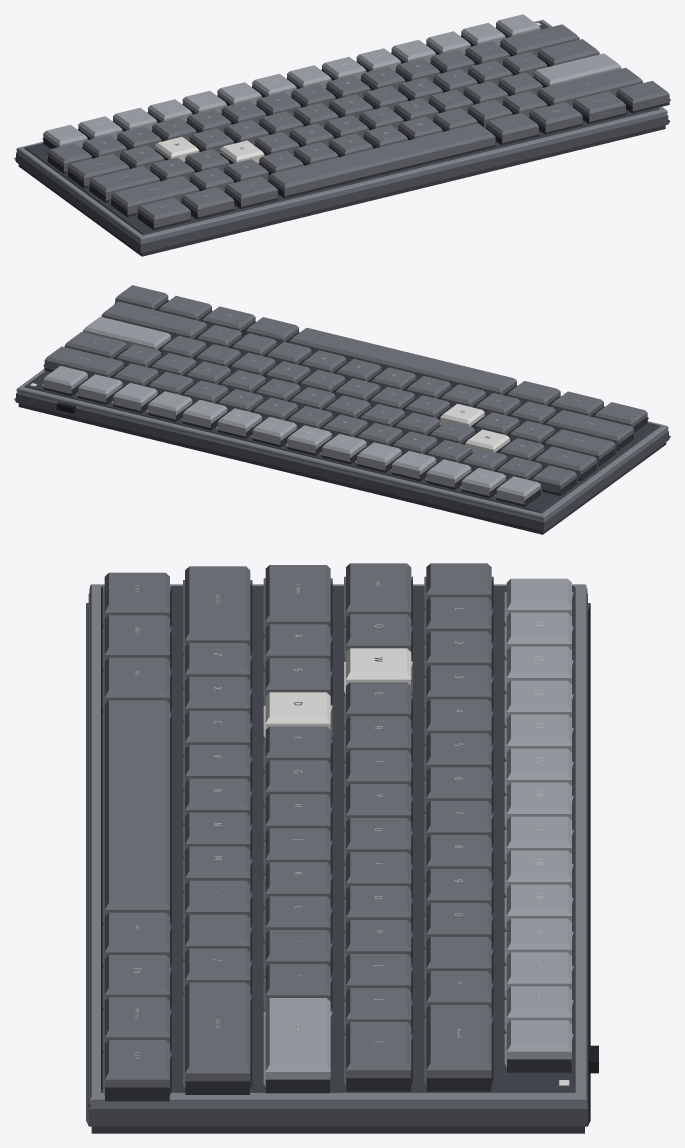
The model's file is typewud-keyboard.glb.
3 views of the same model, one above another, from view 1: azimuth 30°, elevation 25°; view 2: azimuth 150°, elevation 25°; view 3: azimuth 270°, elevation 25° (orthographic). The views are drawn at different scales.
Visible parts, largest first — view 1: Precision aluminium body, Key 5--70, Outer chamfer, Recessed switch plate, Lower chassis, Key 4-Shift-66, Key 4-Shift-55, Key 3-Enter-54, Key 1-Back-27, Key 3-Caps-42, Key 5-Fn-72, Key 5-Win-68 (+69 smaller); view 2: Precision aluminium body, Outer chamfer, Key 5--70, Recessed switch plate, Lower chassis, Key 4-Shift-66, Key 4-Shift-55, Key 3-Enter-54, Key 1-Back-27, Key 3-Caps-42, Key 2-Tab-28, Key 2-\-41 (+68 smaller); view 3: Recessed switch plate, Outer chamfer, Precision aluminium body, Key 5--70, Key 4-Shift-66, Key 3-Enter-54, Key 4-Shift-55, Key 1-Back-27, Key 3-Caps-42, Lower chassis, Key 2-\-41, Key 2-Tab-28 (+74 smaller).
Part boxes in pixels (x1,y1,x2,y2): Precision aluminium body: [14, 114, 669, 253]; Key 5--70: [268, 123, 496, 195]; Outer chamfer: [16, 19, 667, 241]; Recessed switch plate: [24, 21, 659, 235]; Lower chassis: [18, 125, 665, 256]; Key 4-Shift-66: [537, 67, 642, 106]; Key 4-Shift-55: [110, 176, 199, 214]; Key 3-Enter-54: [533, 53, 621, 86]; Key 1-Back-27: [500, 24, 579, 56]; Key 3-Caps-42: [88, 166, 159, 200]; Key 5-Fn-72: [529, 102, 583, 132]; Key 5-Win-68: [181, 187, 235, 217]; Precision aluminium body: [14, 392, 670, 531]; Outer chamfer: [16, 369, 668, 519]; Key 5--70: [289, 327, 517, 397]; Recessed switch plate: [24, 335, 660, 513]; Lower chassis: [18, 403, 666, 534]; Key 4-Shift-66: [101, 301, 206, 340]; Key 4-Shift-55: [546, 410, 635, 448]; Key 3-Enter-54: [83, 316, 171, 349]; Key 1-Back-27: [43, 346, 123, 378]; Key 3-Caps-42: [545, 429, 616, 463]; Key 2-Tab-28: [535, 446, 597, 478]; Key 2-\-41: [64, 331, 126, 358]; Recessed switch plate: [101, 586, 575, 1092]; Outer chamfer: [89, 584, 587, 1104]; Precision aluminium body: [86, 593, 590, 1126]; Key 5--70: [102, 700, 171, 924]; Key 4-Shift-66: [183, 982, 252, 1089]; Key 3-Enter-54: [263, 998, 332, 1087]; Key 4-Shift-55: [183, 566, 252, 655]; Key 1-Back-27: [424, 1005, 493, 1085]; Key 3-Caps-42: [263, 565, 332, 636]; Lower chassis: [91, 1126, 584, 1133]; Key 2-\-41: [344, 1022, 412, 1085]; Key 2-Tab-28: [344, 563, 412, 626].
Size of the model in its own units: 14.91 by 0.946 by 6.19.
10 materials, 1 textured.
